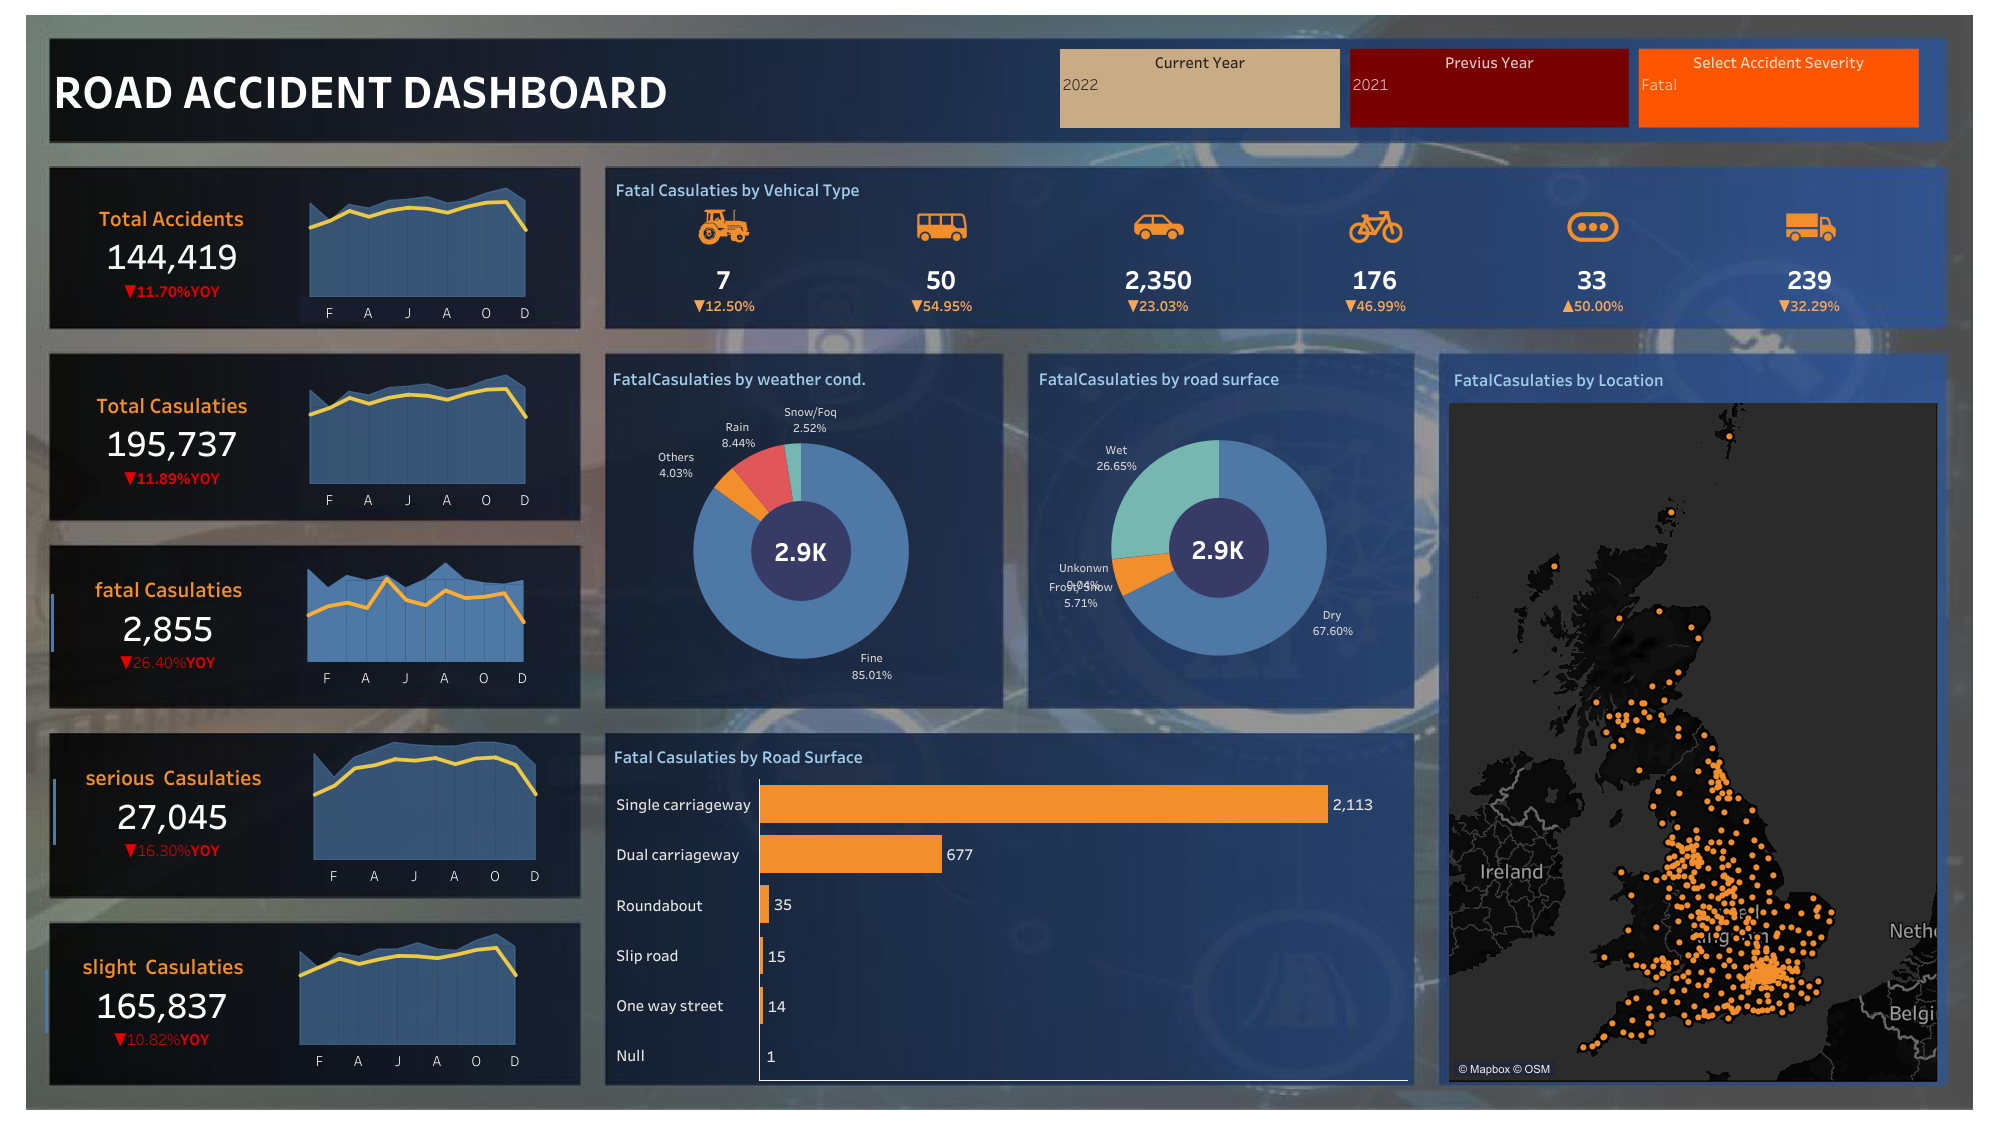

The dashboard page shown, as its layout file describes it:
{"tool":"tableau","page":{"name":"Dashboard 1","canvas":[1600,900],"ordinal":0},"visuals":[{"type":"image","param":"Image/Background.pptx.jpg","box":[8,8,1584,884]},{"type":"text","box":[40,30,798,82]},{"type":"parameter","param":"[Parameters].[Parameter 0777944625315844]","box":[844,35,231.7,71]},{"type":"parameter","param":"[Parameters].[Current Year (copy)_0777944625762309]","box":[1075.7,35,231.7,71]},{"type":"parameter","param":"[Parameters].[Parameter 1322203920863232]","box":[1307.3,35,231.7,71]},{"type":"text","box":[487,136,533,30]},{"type":"worksheet","title":"Total Accidents","mark":"Automatic","box":[40,142,196,120]},{"type":"worksheet","title":"accident Sparkline","mark":"Automatic","rows":["CY Accident (copy)_0777944626860040","Calculation_0777944626094087"],"cols":["Accident Date"],"box":[236,142,196,120]},{"type":"worksheet","title":"vehical type images","mark":"Shape","box":[489,160,1050,41]},{"type":"worksheet","title":"Vehical Type KPI","mark":"Automatic","box":[489,201,1050,59]},{"type":"worksheet","title":"weather cond.","mark":"Pie","rows":["Calculation_1208404837695489","Calculation_1208404838723587"],"box":[486,287,309,274]},{"type":"worksheet","title":"Road Surface","mark":"Pie","rows":["Calculation_1208404837695489","Calculation_1208404838723587"],"box":[827,287,296,269]},{"type":"worksheet","title":"By Location","mark":"Automatic","rows":["Latitude"],"cols":["Longitude"],"box":[1159,288,390,576]},{"type":"worksheet","title":"Total Casulaties ","mark":"Automatic","box":[40,292,196,120]},{"type":"worksheet","title":"total casualties sparkline","mark":"Automatic","rows":["CY Accident (copy)_0777944626860040","Calculation_0777944626094087"],"cols":["Accident Date"],"box":[236,292,196,120]},{"type":"worksheet","title":"Fatal casulaties","mark":"Bar","box":[37,442,197,112]},{"type":"worksheet","title":"fatal casualties ","mark":"Automatic","rows":["CY fatal casulaties (copy)_1253209217261574","Calculation_1253209215463429"],"cols":["Accident Date"],"box":[234,442,196,112]},{"type":"worksheet","title":"serious  casulaties ","mark":"Bar","box":[38,585,201,128]},{"type":"worksheet","title":"serious casualties ","mark":"Automatic","rows":["CY serious casulaties  (copy)_1615223701716993","CY fatal casulaties (copy)_1615223700926464"],"cols":["Accident Date"],"box":[239,585,201,128]},{"type":"worksheet","title":"Road Type","mark":"Automatic","rows":["Road_Type"],"cols":["Calculation_1253209210175488"],"box":[487,589,639,275]},{"type":"worksheet","title":"slight  casulaties","mark":"Bar","box":[32,739,196,122]},{"type":"worksheet","title":"slight casualties ","mark":"Automatic","rows":["CY slight casulaties  (copy)_1615223704354820","CY fatal casulaties (copy)_1615223703588867"],"cols":["Accident Date"],"box":[228,739,196,122]}]}

Visuals, with their boxes in screenshot pixels (x1, y1, x2, y2), scaled from the page's 1600x900 canvas onto the 1999x1124 screenshot:
image: bbox(10, 10, 1989, 1114)
text: bbox(50, 37, 1047, 140)
parameter: bbox(1054, 44, 1344, 132)
parameter: bbox(1344, 44, 1633, 132)
parameter: bbox(1633, 44, 1923, 132)
text: bbox(608, 170, 1274, 207)
"Total Accidents" worksheet: bbox(50, 177, 295, 327)
"accident Sparkline" worksheet: bbox(295, 177, 540, 327)
"vehical type images" worksheet (Shape marks): bbox(611, 200, 1923, 251)
"Vehical Type KPI" worksheet: bbox(611, 251, 1923, 325)
"weather cond." worksheet (Pie marks): bbox(607, 358, 993, 701)
"Road Surface" worksheet (Pie marks): bbox(1033, 358, 1403, 694)
"By Location" worksheet: bbox(1448, 360, 1935, 1079)
"Total Casulaties " worksheet: bbox(50, 365, 295, 515)
"total casualties sparkline" worksheet: bbox(295, 365, 540, 515)
"Fatal casulaties" worksheet (Bar marks): bbox(46, 552, 292, 692)
"fatal casualties " worksheet: bbox(292, 552, 537, 692)
"serious  casulaties " worksheet (Bar marks): bbox(47, 731, 299, 890)
"serious casualties " worksheet: bbox(299, 731, 550, 890)
"Road Type" worksheet: bbox(608, 736, 1407, 1079)
"slight  casulaties" worksheet (Bar marks): bbox(40, 923, 285, 1075)
"slight casualties " worksheet: bbox(285, 923, 530, 1075)
